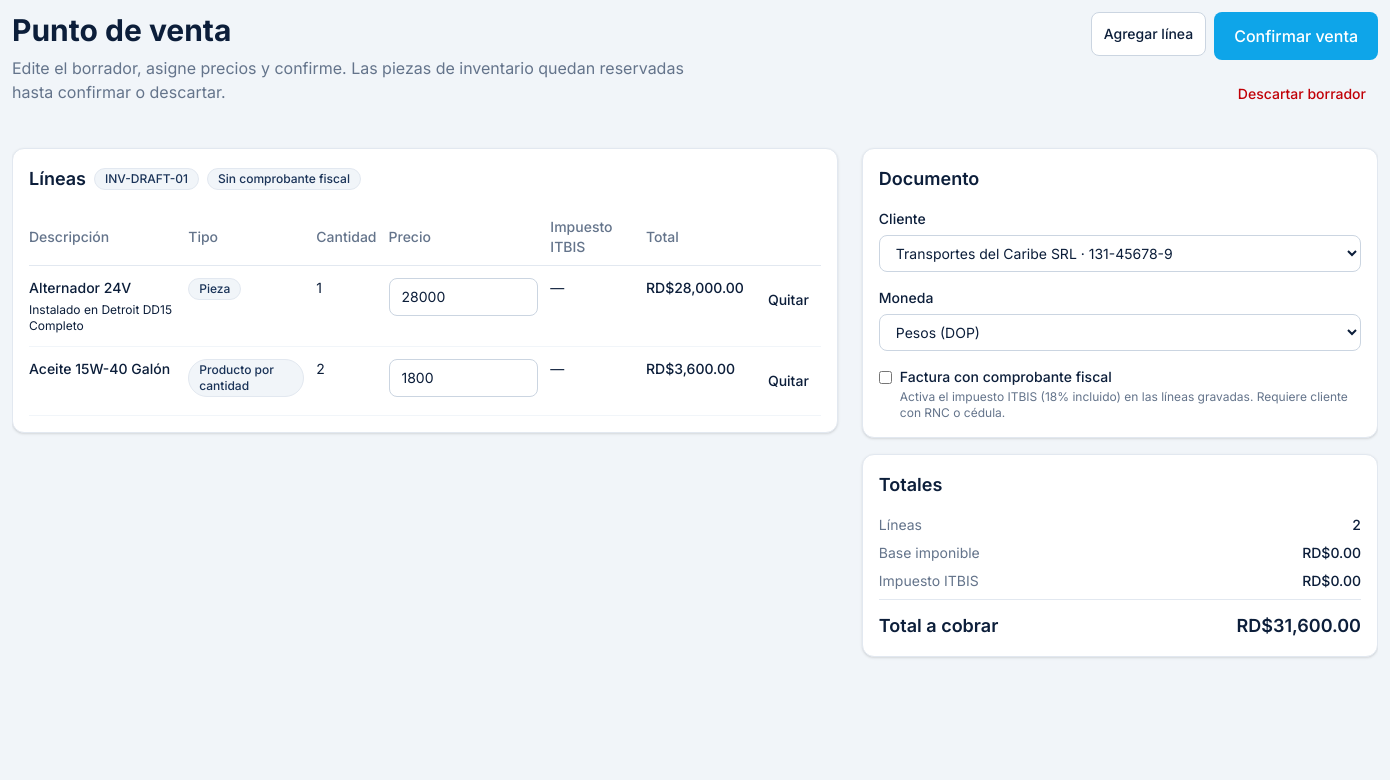
Test case: PosPage › removes a line immediately and restores it from the undo toast
Expected: the text "Alternador 24V" is shown, x1=29 y1=279 x2=131 y2=296
What coordinates should you click on to do the following:
click the button "Quitar" in the row of "Alternador 24V"
I would click on:
 (788, 300)
Its box is x1=756 y1=278 x2=821 y2=322.
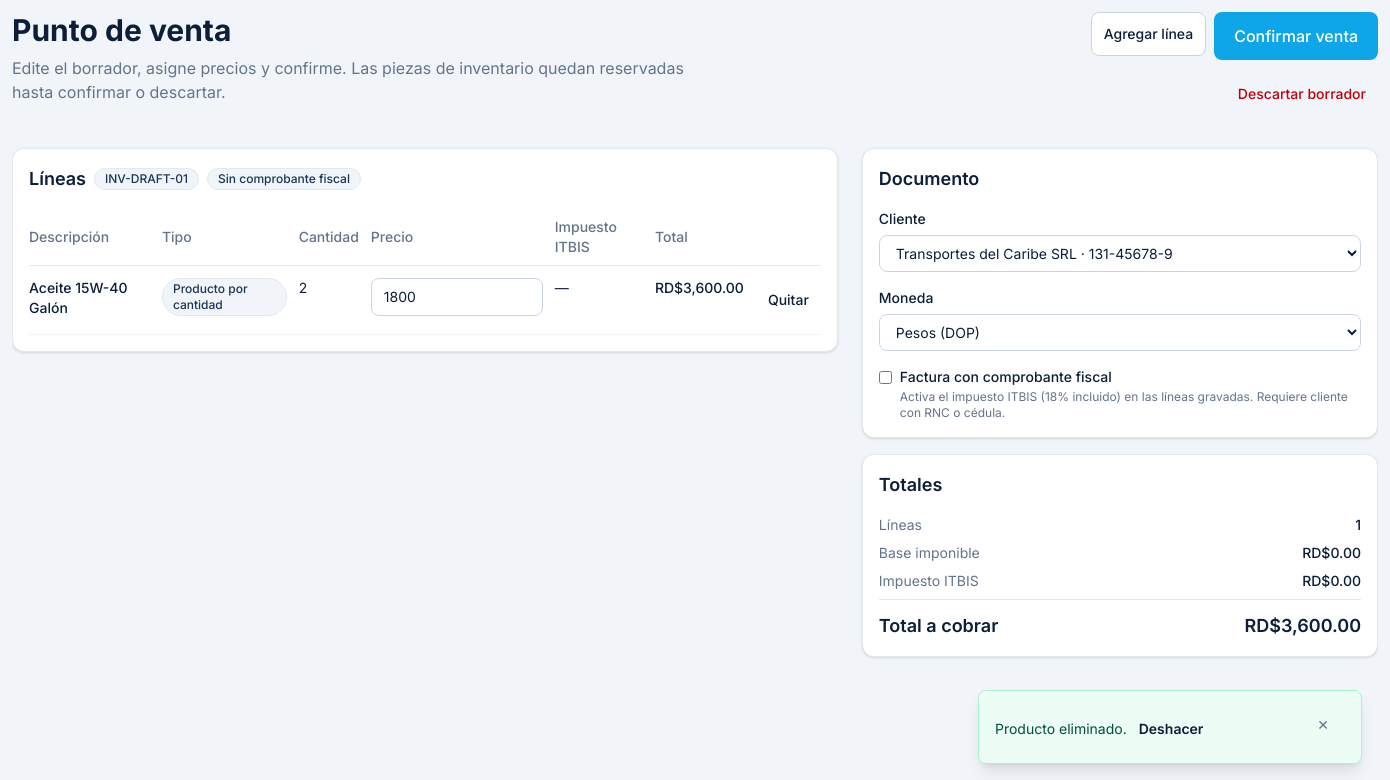
Expected: the text "Aceite 15W-40 Galón" is shown, x1=29 y1=279 x2=128 y2=316
Expected: the text "Producto eliminado." is shown, x1=995 y1=720 x2=1127 y2=737
Expected: the text "Alternador 24V" is gone
What coordinates should you click on to do the following:
click the button "Deshacer"
I would click on:
 (1171, 729)
Its box is x1=1127 y1=707 x2=1215 y2=751.
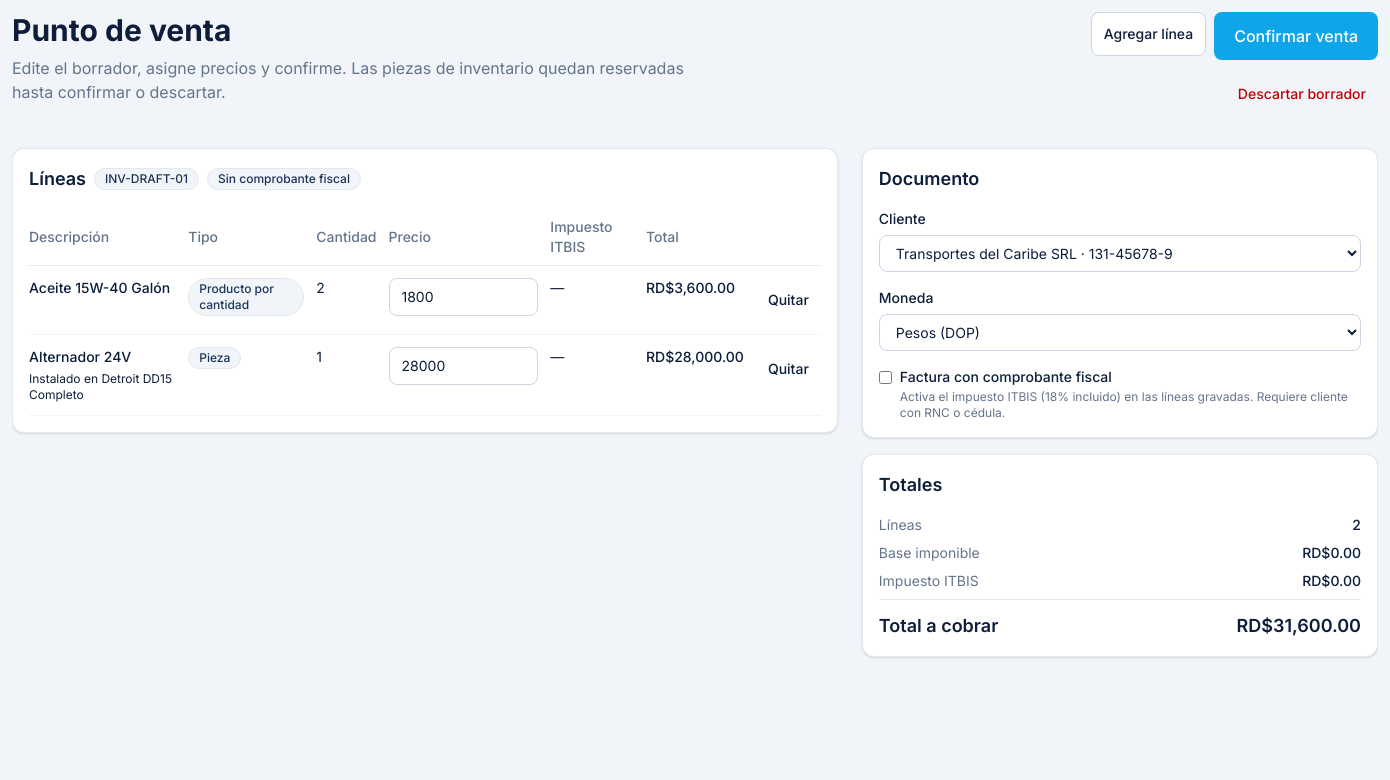
Expected: the text "Alternador 24V" is shown, x1=29 y1=348 x2=131 y2=365
